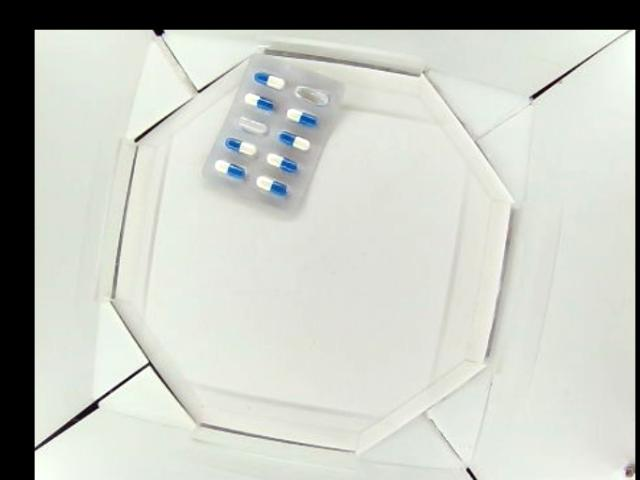Medicine: (199, 52, 346, 220)
